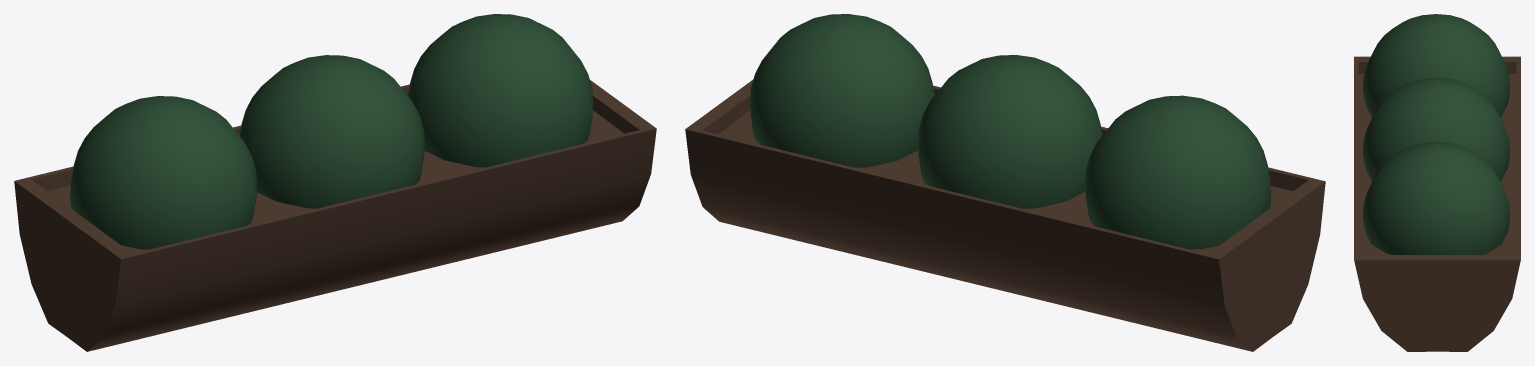
File: Geo_Shrubs.fbx
3 renders of one model, left to right at view 1: azimuth 30°, elevation 25°; view 2: azimuth 150°, elevation 25°; view 3: azimuth 270°, elevation 25°, orthographic. The views are drawn at different scales.
Parts seen in each view (by area): view 1: pCylinder7; view 2: pCylinder7; view 3: pCylinder7.
Part boxes in pixels (left/top/right/bottom): pCylinder7: left=14, top=14, right=656, bottom=351; pCylinder7: left=685, top=14, right=1325, bottom=351; pCylinder7: left=1354, top=14, right=1520, bottom=351.
Bounding box in the file's own units: 200 × 75.18 × 69.25.
